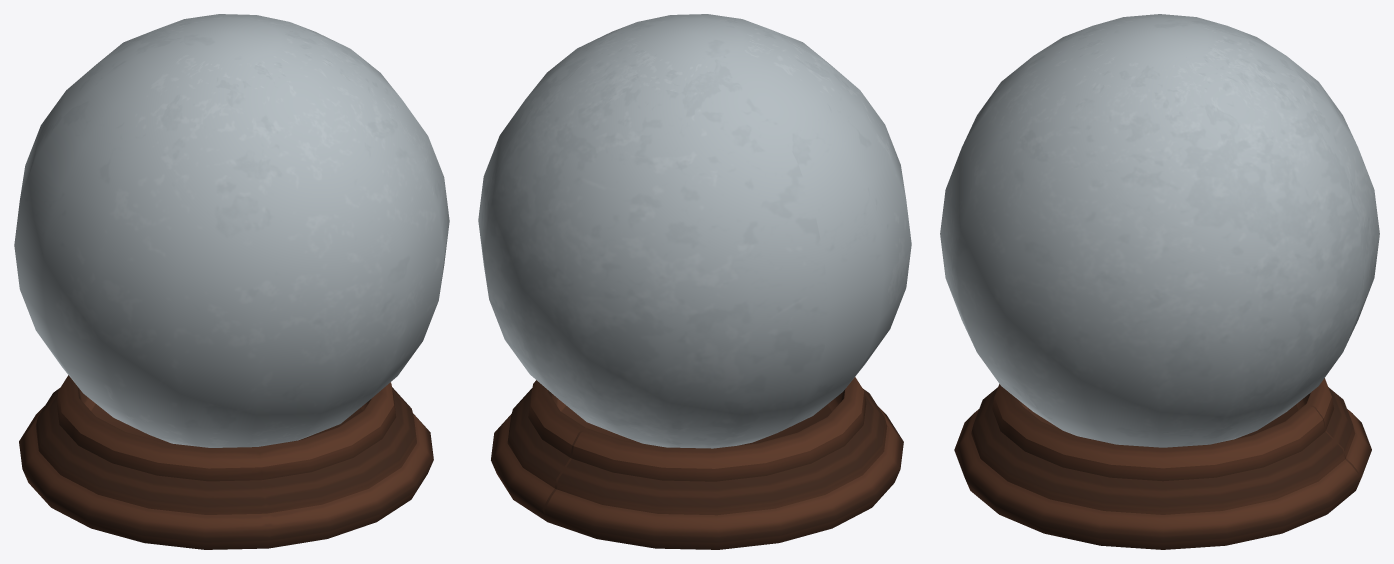
The model's file is FortuneTeller_CrystalBall_Scaled.fbx.
3 renders of one model, left to right at view 1: azimuth 30°, elevation 25°; view 2: azimuth 150°, elevation 25°; view 3: azimuth 270°, elevation 25°, orthographic.
Parts seen in each view (by area): view 1: CrystalBall, CrystalBall_Holder; view 2: CrystalBall, CrystalBall_Holder; view 3: CrystalBall, CrystalBall_Holder.
Boxes of the visible parts, x1,y1,x2,y2 form: CrystalBall: [14, 14, 449, 447]; CrystalBall_Holder: [19, 375, 433, 549]; CrystalBall: [478, 14, 911, 448]; CrystalBall_Holder: [491, 377, 903, 549]; CrystalBall: [940, 14, 1379, 447]; CrystalBall_Holder: [954, 378, 1371, 549].
Bounding box in the file's own units: 22.42 × 24.38 × 22.42.
